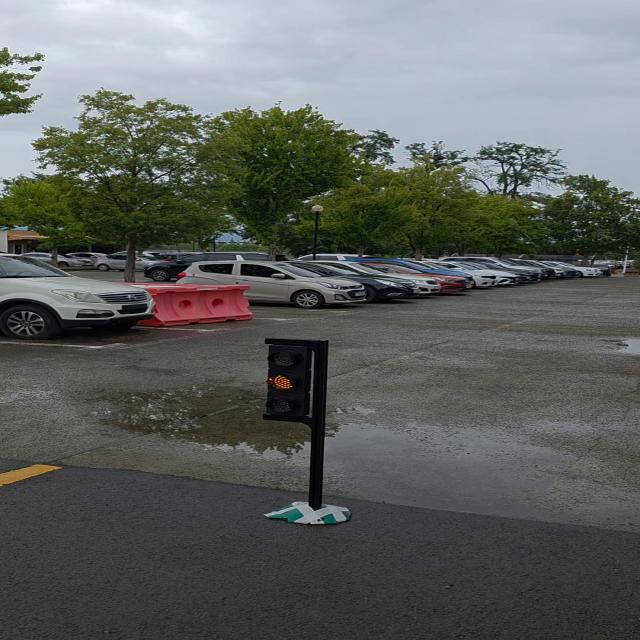yellow: (265, 342, 311, 425)
